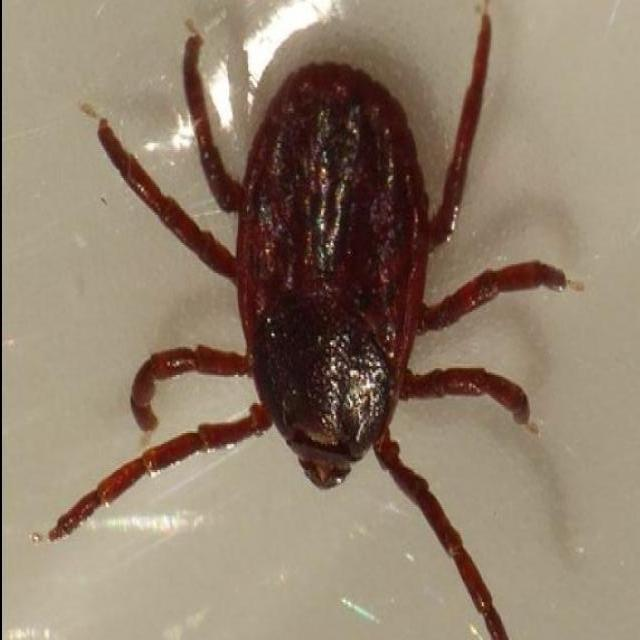Rhipicephalus Sanguineus-F: (43, 5, 569, 640)
